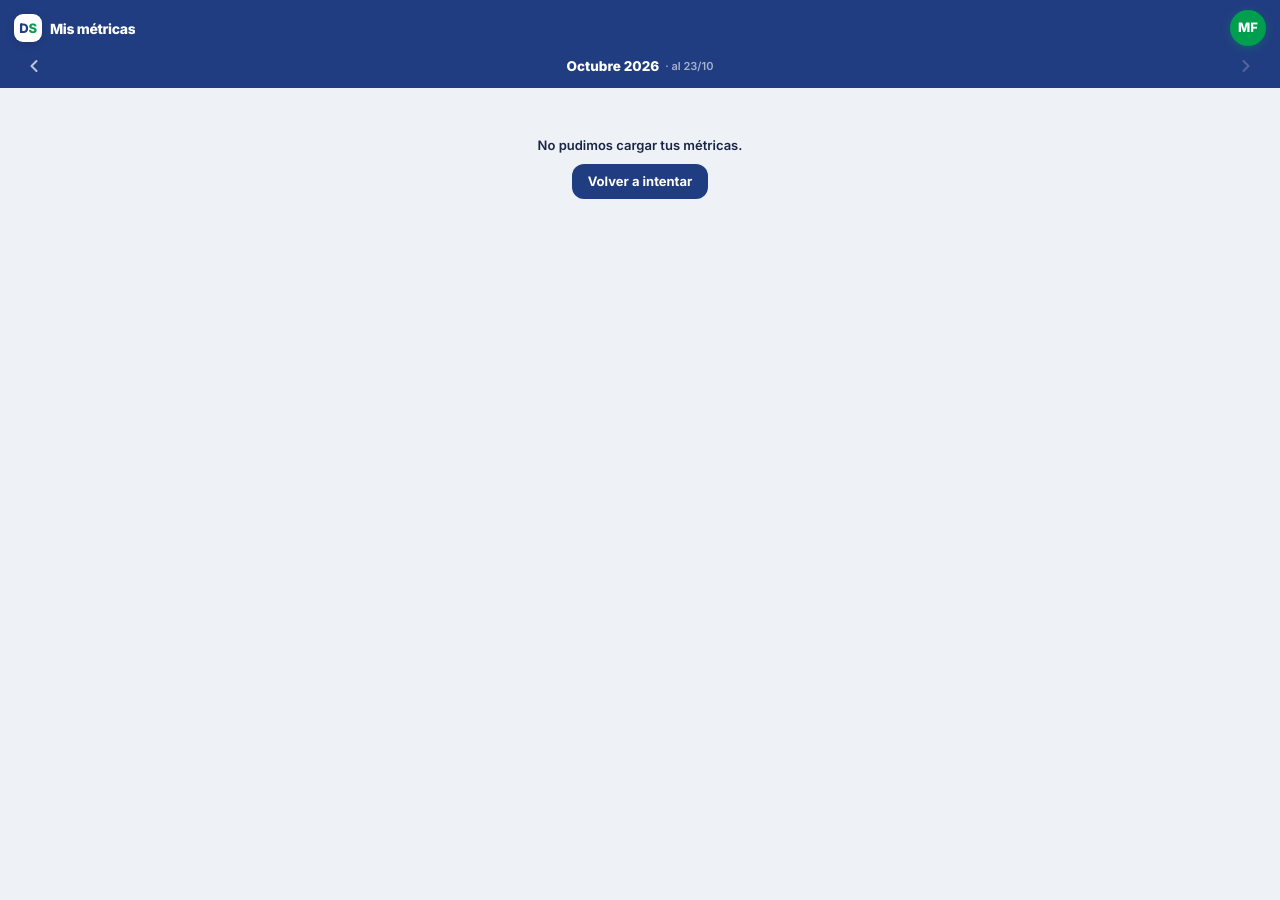
it: si falla, ofrece reintentar
Click the button "Volver a intentar" at point(640, 181), box [572,164,708,199]
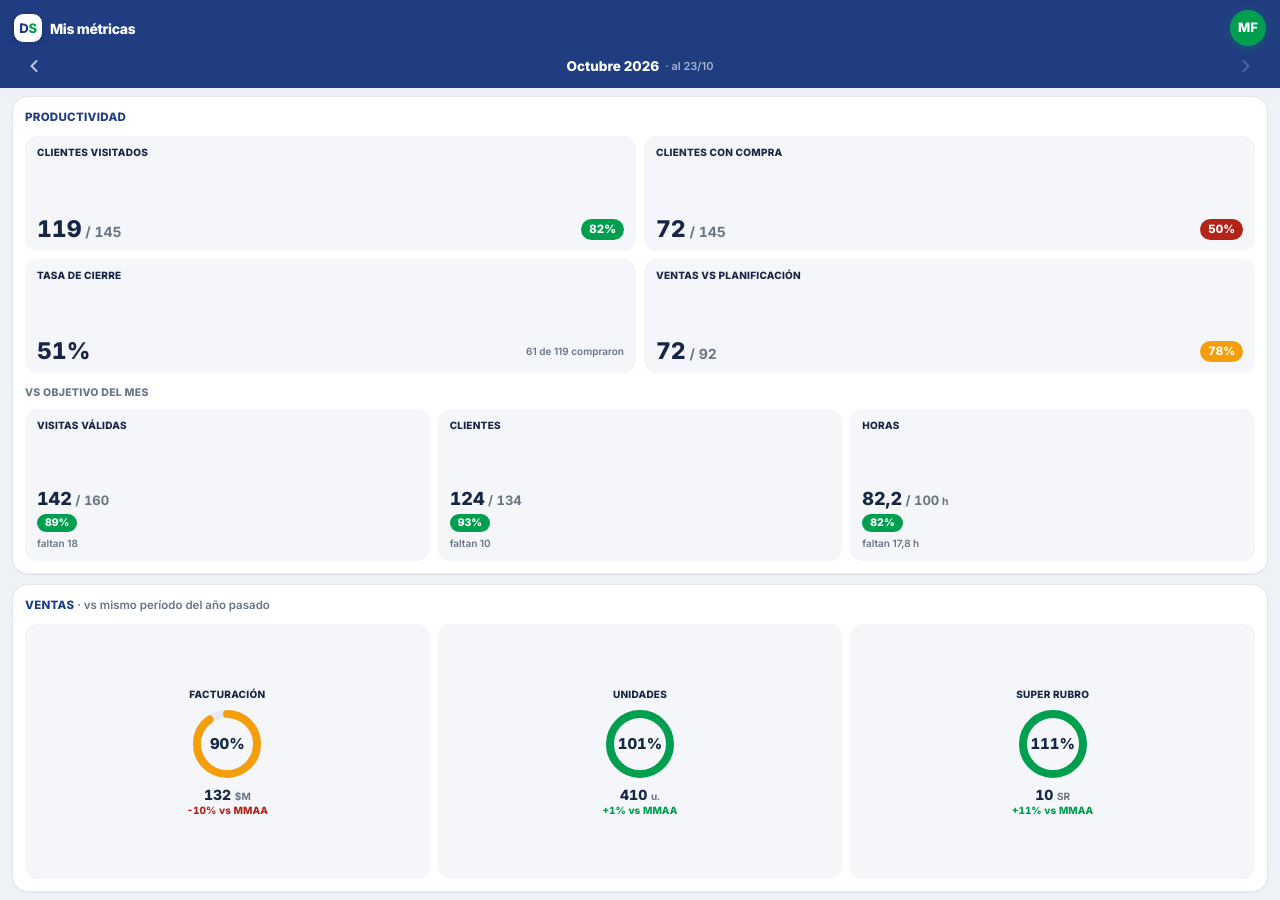
Result: the element with test id "tile-visitados" shows "119 / 145" at [25,136,636,251]
